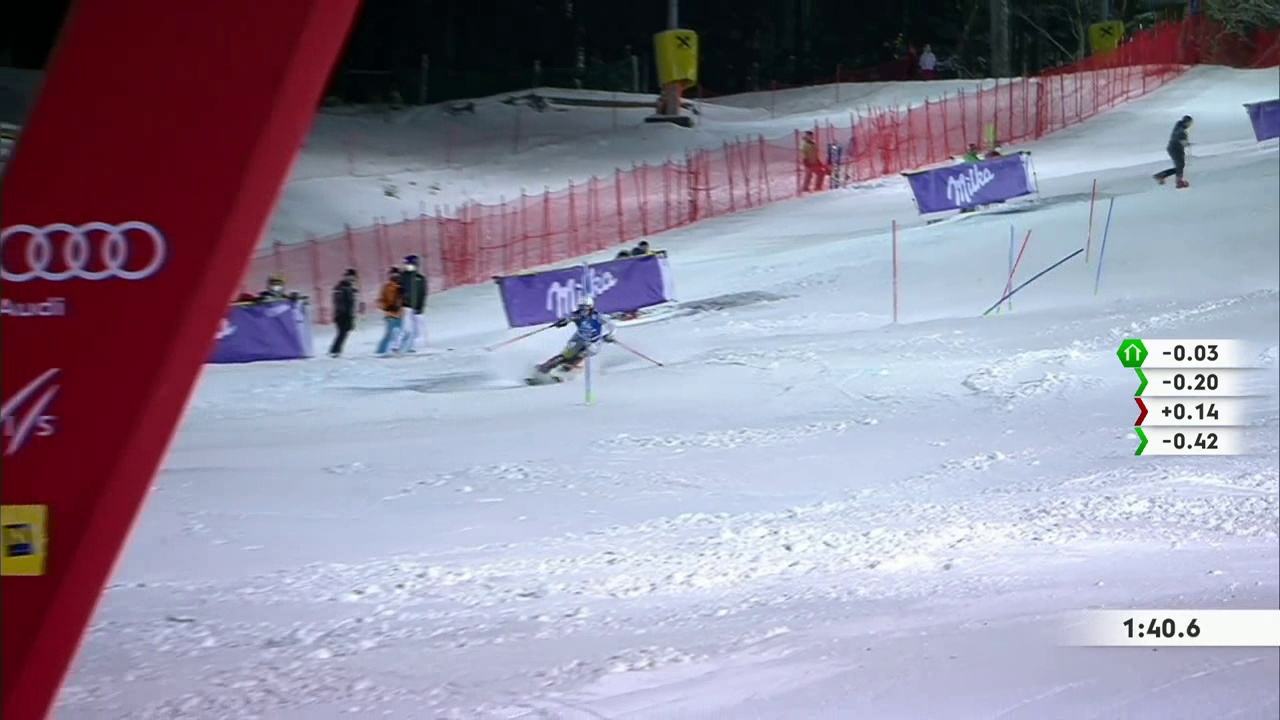audi: (1, 216, 166, 294)
milka: (929, 158, 1027, 215)
